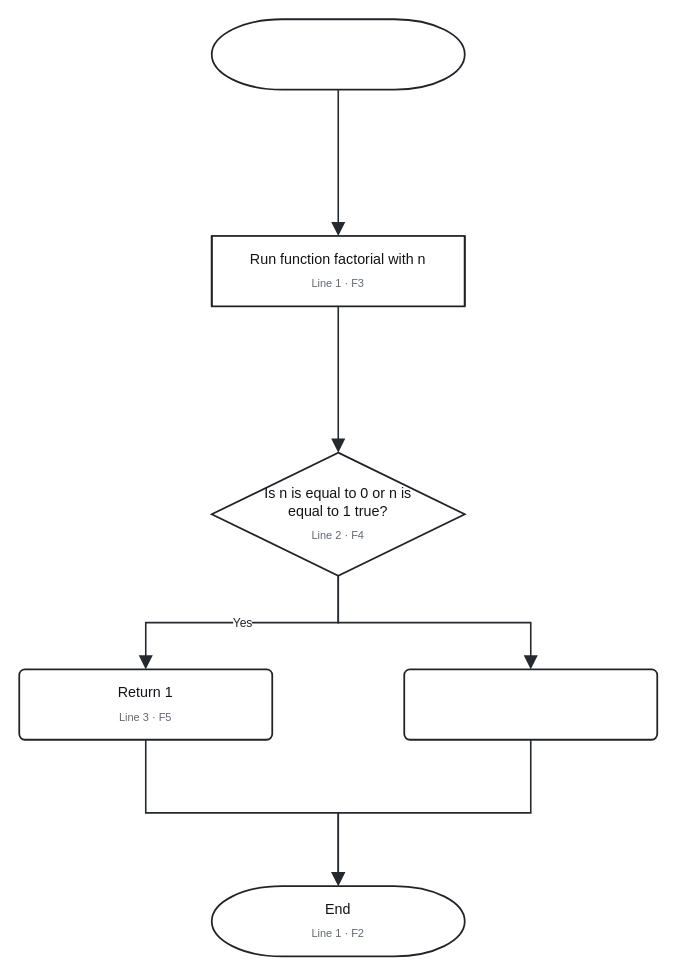
Image size: 678x977. Some labels were removed from this diagram. The centre of each missing label's shape, as x and y in pixels:
"Return n multiplied by the result of factorial(n minus 1) Line 5 · F6" goes at pixel 530 704.
"Start Line 1 · F1" goes at pixel 337 54.
